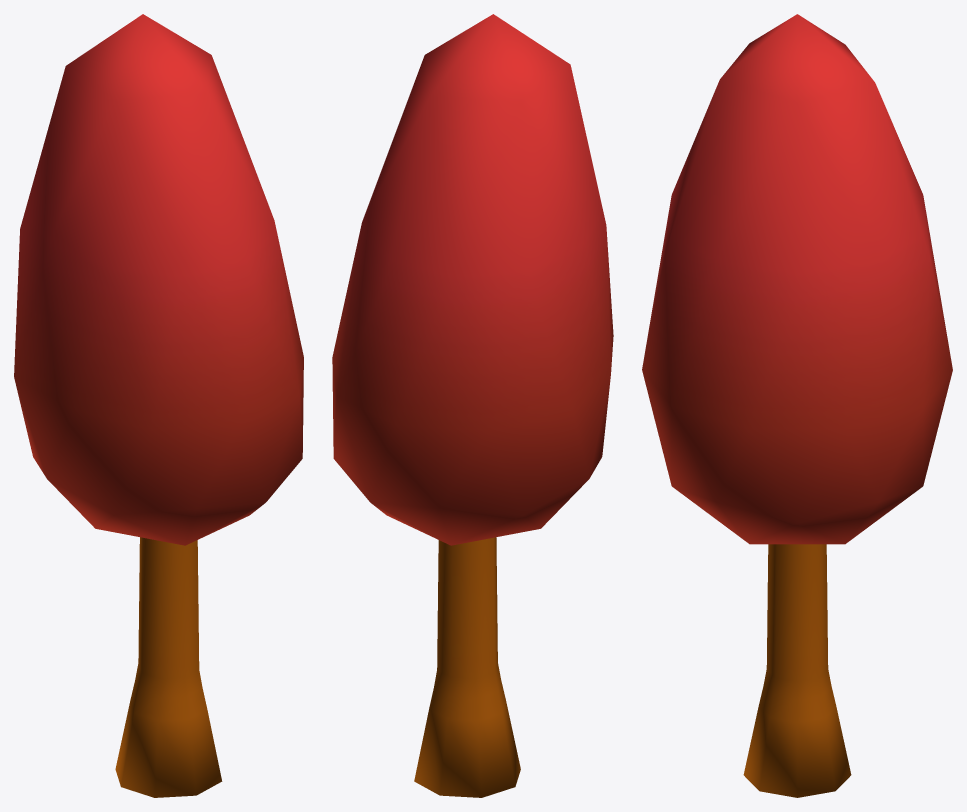
File: Tree_05.2.fbx
3 renders of one model, left to right at view 1: azimuth 30°, elevation 25°; view 2: azimuth 150°, elevation 25°; view 3: azimuth 270°, elevation 25°, orthographic. The views are drawn at different scales.
Visible parts, largest first — view 1: Tree_05.2; view 2: Tree_05.2; view 3: Tree_05.2.
Boxes of the visible parts, bbox=[...] form: Tree_05.2: bbox=[14, 14, 303, 797]; Tree_05.2: bbox=[332, 14, 613, 797]; Tree_05.2: bbox=[642, 14, 952, 797].
Size of the model in its own units: 118 by 135 by 359.
